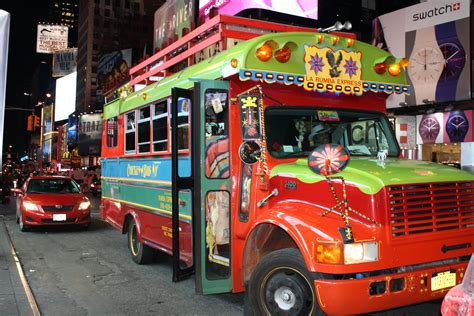bus: (104, 64, 474, 311)
